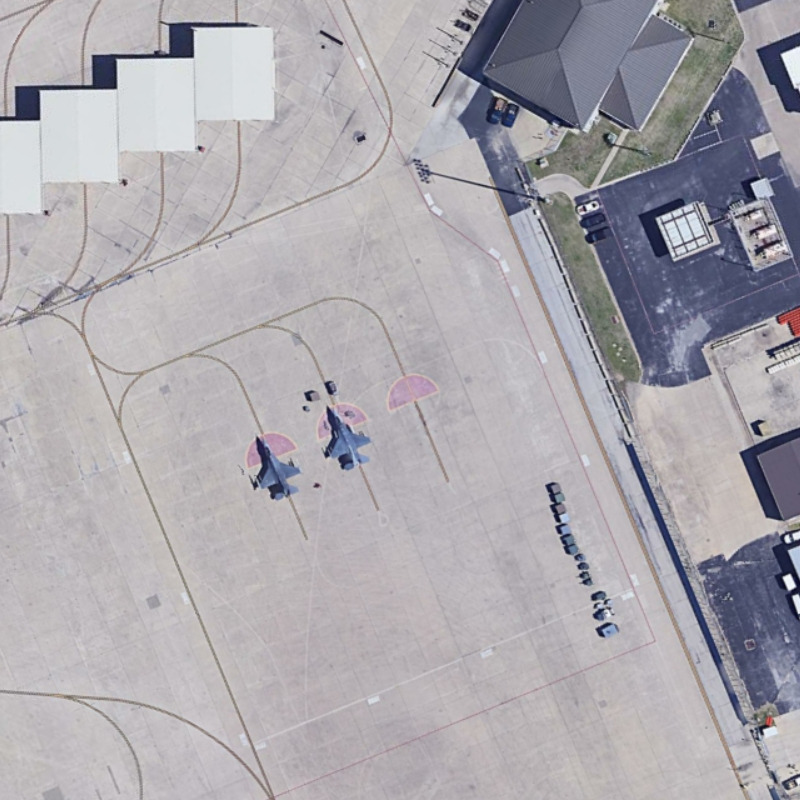A5: (321, 400, 374, 472), (252, 433, 304, 502)
